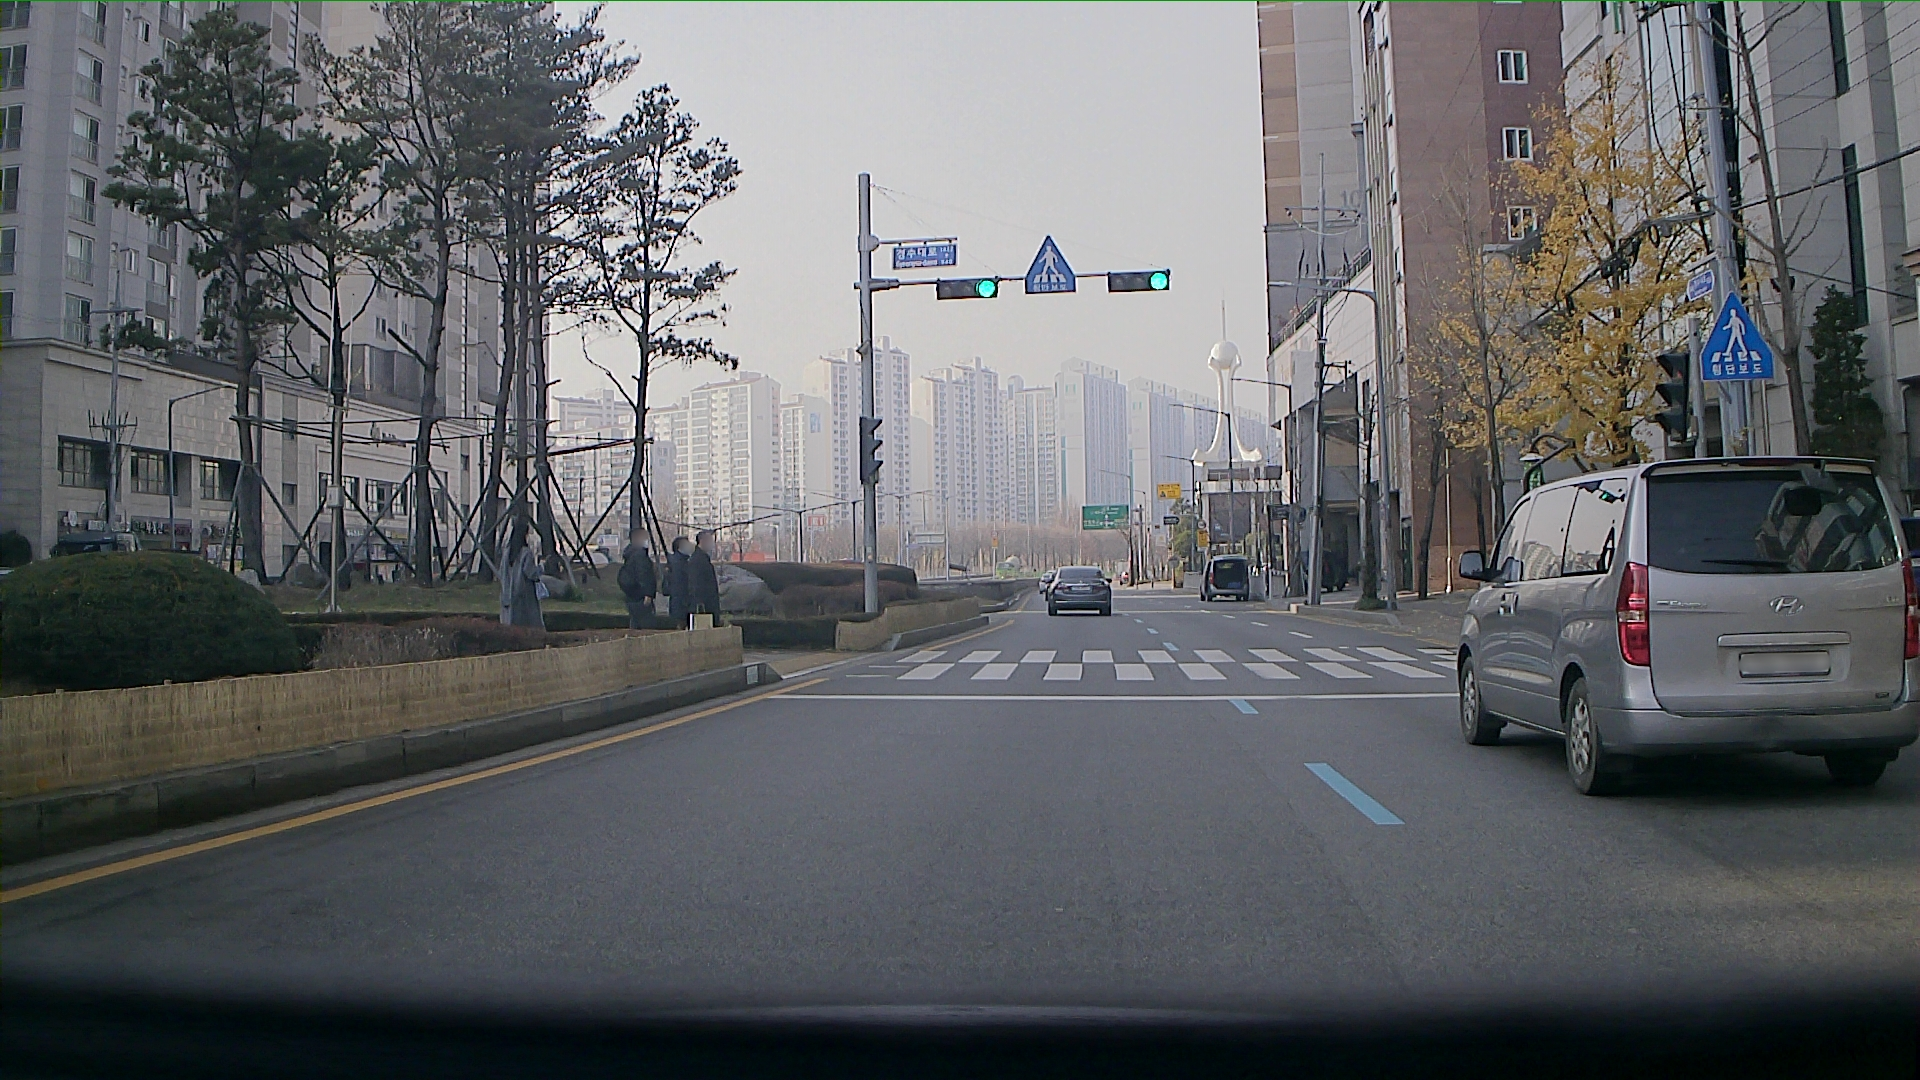trafficLight: (932, 276, 996, 302), (1110, 272, 1170, 294)
trafficSignTri: (1700, 294, 1774, 385), (1022, 232, 1075, 301)
